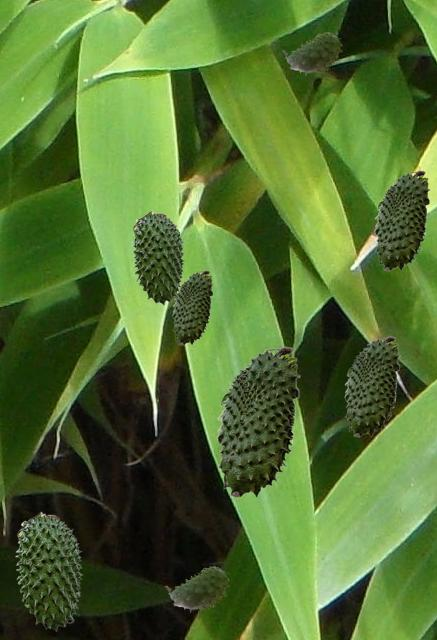guyabano: (216, 346, 299, 497), (15, 511, 82, 630), (344, 336, 399, 436), (374, 170, 429, 270), (131, 210, 184, 304), (172, 270, 212, 344), (165, 566, 228, 611), (282, 32, 341, 74)
